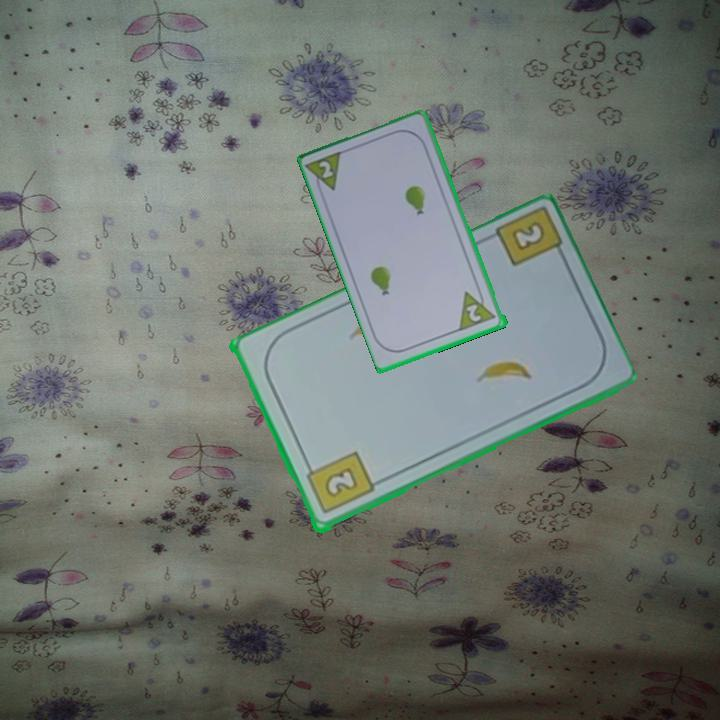2b: (301, 448, 377, 517), (507, 218, 548, 255)
2p: (463, 301, 485, 325), (316, 157, 337, 182)
